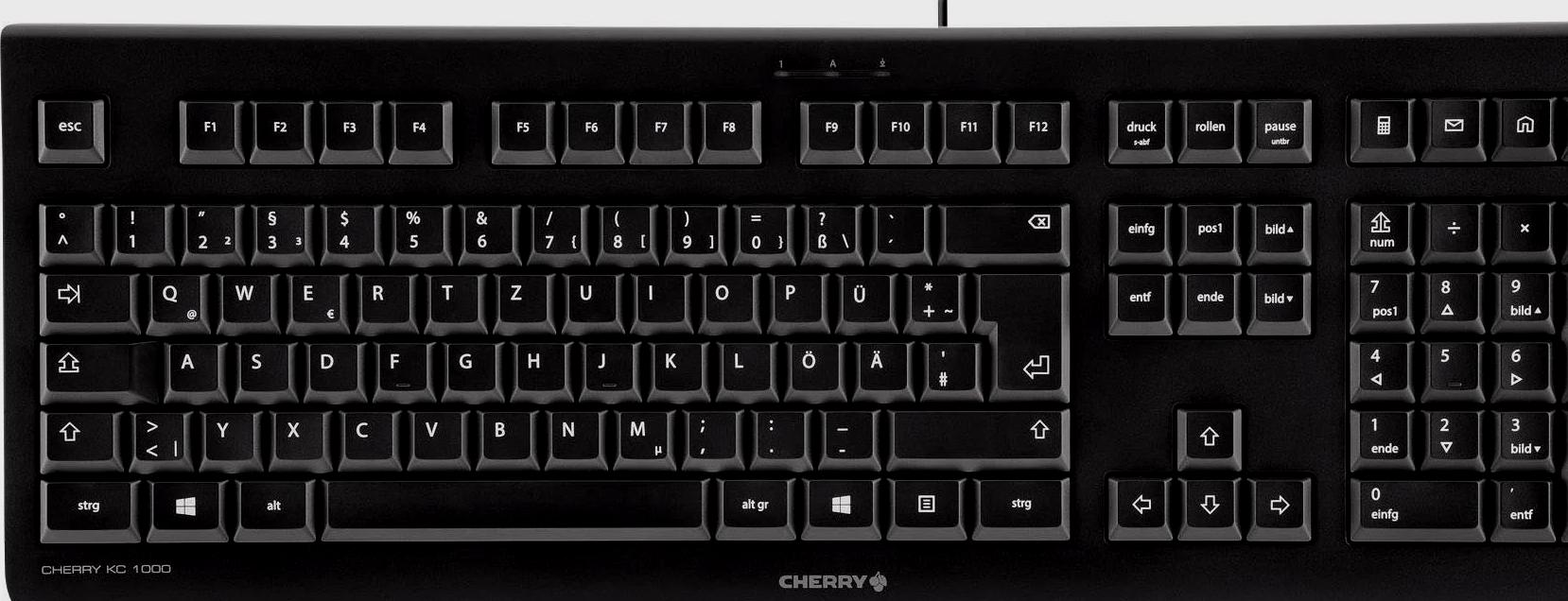0: (733, 199, 790, 258)
1: (111, 200, 167, 256)
2: (183, 200, 237, 256)
3: (252, 199, 307, 258)
4: (322, 200, 375, 256)
5: (390, 198, 446, 257)
6: (459, 199, 515, 257)
7: (528, 200, 584, 257)
8: (596, 200, 653, 259)
9: (665, 200, 720, 257)
a: (166, 338, 218, 391)
accent: (872, 200, 924, 254)
ae: (855, 336, 908, 389)
alt-left: (235, 474, 308, 532)
altgr-right: (718, 472, 791, 530)
b: (477, 404, 531, 459)
c: (340, 404, 392, 460)
caret: (37, 198, 95, 254)
comma: (683, 404, 737, 461)
d: (305, 337, 357, 390)
del: (939, 199, 1068, 257)
e: (287, 267, 341, 324)
enter: (970, 266, 1068, 397)
f: (375, 337, 427, 390)
g: (444, 336, 495, 389)
h: (512, 336, 566, 389)
hash: (923, 336, 975, 391)
i: (636, 274, 687, 328)
j: (582, 337, 632, 390)
k: (650, 336, 703, 390)
keyboard: (2, 17, 1568, 601)
l: (719, 336, 771, 390)
less: (131, 405, 184, 461)
m: (613, 404, 668, 460)
minus: (821, 405, 871, 458)
n: (546, 404, 600, 459)
o: (702, 272, 756, 327)
oe: (787, 336, 839, 390)
p: (769, 268, 822, 322)
plus: (906, 266, 958, 323)
point: (752, 404, 804, 459)
q: (145, 267, 202, 324)
r: (357, 268, 410, 323)
s: (236, 338, 287, 391)
shift-left: (38, 407, 114, 461)
shift-lock: (38, 337, 156, 398)
shift-right: (890, 406, 1064, 459)
space: (320, 472, 709, 537)
ss: (802, 199, 856, 256)
strg-left: (37, 474, 135, 535)
strg-right: (973, 474, 1070, 532)
t: (427, 267, 478, 321)
tab: (38, 268, 133, 324)
u: (568, 272, 620, 327)
ue: (838, 267, 889, 322)
v: (409, 404, 462, 458)
w: (218, 266, 272, 322)
x: (271, 405, 324, 460)
y: (200, 406, 253, 460)
z: (495, 268, 547, 321)
